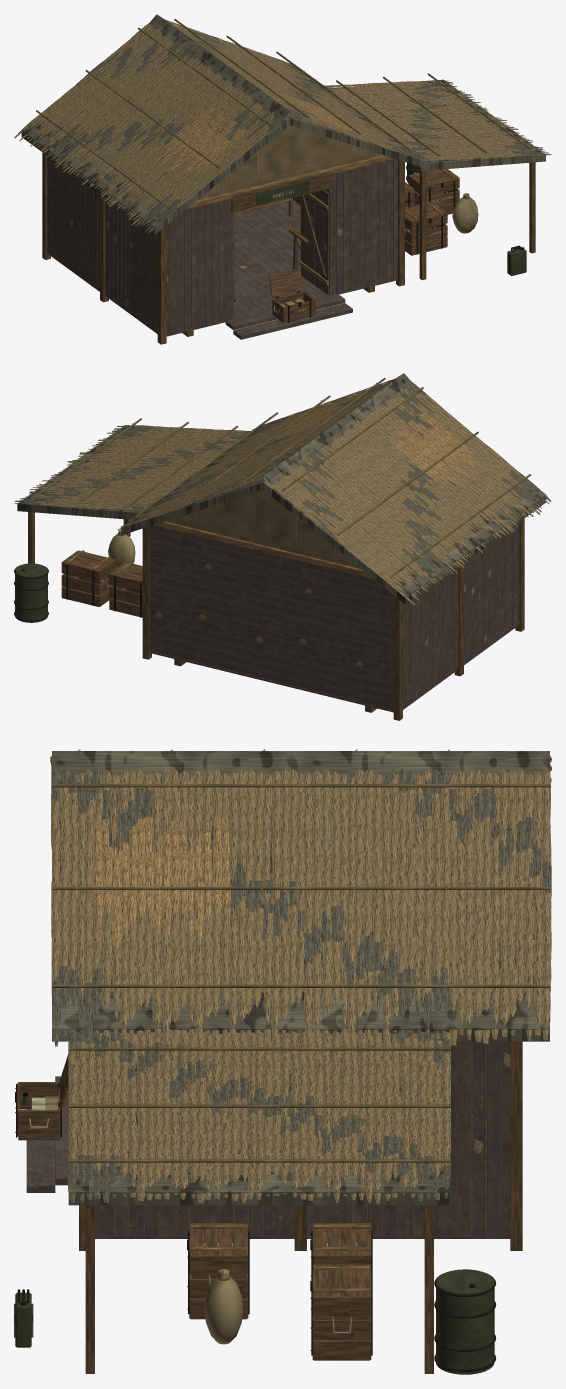
File: C1_ApprovedArt.fbx
3 views of the same model, one above another, from view 1: azimuth 30°, elevation 25°; view 2: azimuth 150°, elevation 25°; view 3: azimuth 270°, elevation 25° (orthographic). The views are drawn at different scales.
Visible parts, largest first — view 1: Plank floor / WeatheredTimber, Overlapping dry palm leaflets / PalmDry, Dense palm underthatch / PalmOld, Overlapping dry palm leaflets / PalmDry.002, Overlapping dry palm leaflets / PalmDry.001, Woven gable / PalmWeave, Floor bearer / AgedTeak, Dense palm underthatch / PalmOld.002, Dense palm underthatch / PalmOld.001, Overlapping dry palm leaflets / PalmRepair, Overlapping ridge cap / PalmOld, Door leaf board / WeatheredTimber.001 (+13 smaller); view 2: Plank floor / WeatheredTimber, Overlapping dry palm leaflets / PalmDry, Dense palm underthatch / PalmOld, Overlapping dry palm leaflets / PalmDry.002, Overlapping dry palm leaflets / PalmDry.001, Woven gable / PalmWeave, Dense palm underthatch / PalmOld.002, Floor bearer / AgedTeak, Dense palm underthatch / PalmOld.001, Overlapping dry palm leaflets / PalmRepair, Overlapping ridge cap / PalmOld, Sawn slat / AgedTeak.009 (+9 smaller); view 3: Overlapping dry palm leaflets / PalmDry.001, Overlapping dry palm leaflets / PalmDry.002, Dense palm underthatch / PalmOld.001, Plank floor / WeatheredTimber, Dense palm underthatch / PalmOld.002, Overlapping dry palm leaflets / PalmRepair.001, Overlapping ridge cap / PalmOld, Bamboo retaining batten / RoofBamboo.001, Drum body / PaintedSteel, Bamboo retaining batten / RoofBamboo.002, Sawn slat / AgedTeak.009, Floor bearer / AgedTeak (+10 smaller).
Boxes of the visible parts, <box> form: Plank floor / WeatheredTimber: <box>47,157,397,339</box>; Overlapping dry palm leaflets / PalmDry: <box>14,23,289,225</box>; Dense palm underthatch / PalmOld: <box>21,32,290,234</box>; Overlapping dry palm leaflets / PalmDry.002: <box>327,81,532,160</box>; Overlapping dry palm leaflets / PalmDry.001: <box>166,20,413,155</box>; Woven gable / PalmWeave: <box>197,125,383,200</box>; Floor bearer / AgedTeak: <box>42,152,404,344</box>; Dense palm underthatch / PalmOld.002: <box>324,79,551,170</box>; Dense palm underthatch / PalmOld.001: <box>181,30,432,168</box>; Overlapping dry palm leaflets / PalmRepair: <box>156,107,246,179</box>; Overlapping ridge cap / PalmOld: <box>147,14,301,126</box>; Door leaf board / WeatheredTimber.001: <box>300,190,328,295</box>; Plank floor / WeatheredTimber: <box>149,522,519,712</box>; Overlapping dry palm leaflets / PalmDry: <box>263,386,540,605</box>; Dense palm underthatch / PalmOld: <box>263,381,551,604</box>; Overlapping dry palm leaflets / PalmDry.002: <box>25,426,248,510</box>; Overlapping dry palm leaflets / PalmDry.001: <box>117,380,391,529</box>; Woven gable / PalmWeave: <box>165,490,361,569</box>; Dense palm underthatch / PalmOld.002: <box>14,425,250,519</box>; Floor bearer / AgedTeak: <box>142,518,524,720</box>; Dense palm underthatch / PalmOld.001: <box>121,379,394,535</box>; Overlapping dry palm leaflets / PalmRepair: <box>388,413,488,490</box>; Overlapping ridge cap / PalmOld: <box>259,373,413,491</box>; Sawn slat / AgedTeak.009: <box>61,550,115,606</box>; Overlapping dry palm leaflets / PalmDry.001: <box>51,755,551,1045</box>; Overlapping dry palm leaflets / PalmDry.002: <box>68,1031,450,1204</box>; Dense palm underthatch / PalmOld.001: <box>51,764,551,1046</box>; Plank floor / WeatheredTimber: <box>26,1041,510,1238</box>; Dense palm underthatch / PalmOld.002: <box>68,1031,450,1205</box>; Overlapping dry palm leaflets / PalmRepair.001: <box>93,816,230,950</box>; Overlapping ridge cap / PalmOld: <box>52,751,549,783</box>; Bamboo retaining batten / RoofBamboo.001: <box>52,784,549,987</box>; Drum body / PaintedSteel: <box>436,1269,494,1374</box>; Bamboo retaining batten / RoofBamboo.002: <box>68,1047,450,1162</box>; Sawn slat / AgedTeak.009: <box>312,1264,371,1360</box>; Floor bearer / AgedTeak: <box>79,1041,522,1250</box>.
Size of the model in its own units: 865 by 420 by 524.
